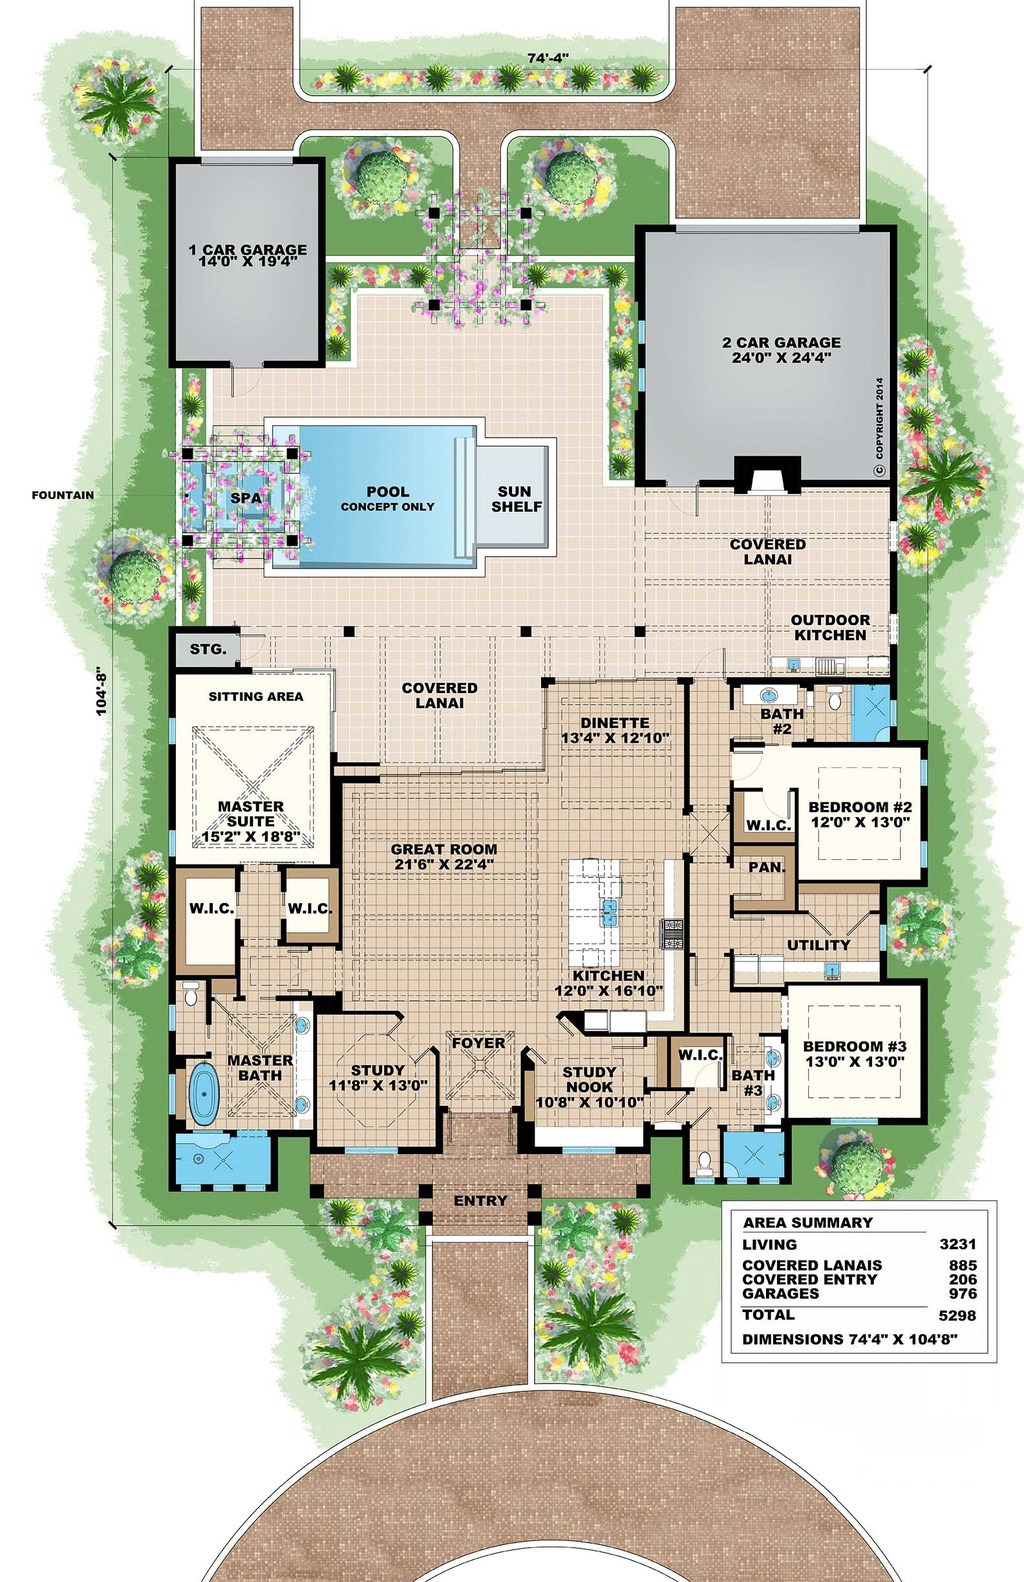bedroom has a private bathroom with sink, bathing space and walk in closets: (688, 919, 942, 1219), (688, 672, 936, 973)
great room has kitchen with kitchen bar and dining area: (347, 680, 688, 1026)
there is a master bedroom with master bathroom having walk in closets, tub and s: (159, 672, 351, 1197)
there is a swimming pool in covered lanai and outdoor kitchen: (181, 410, 894, 670)
